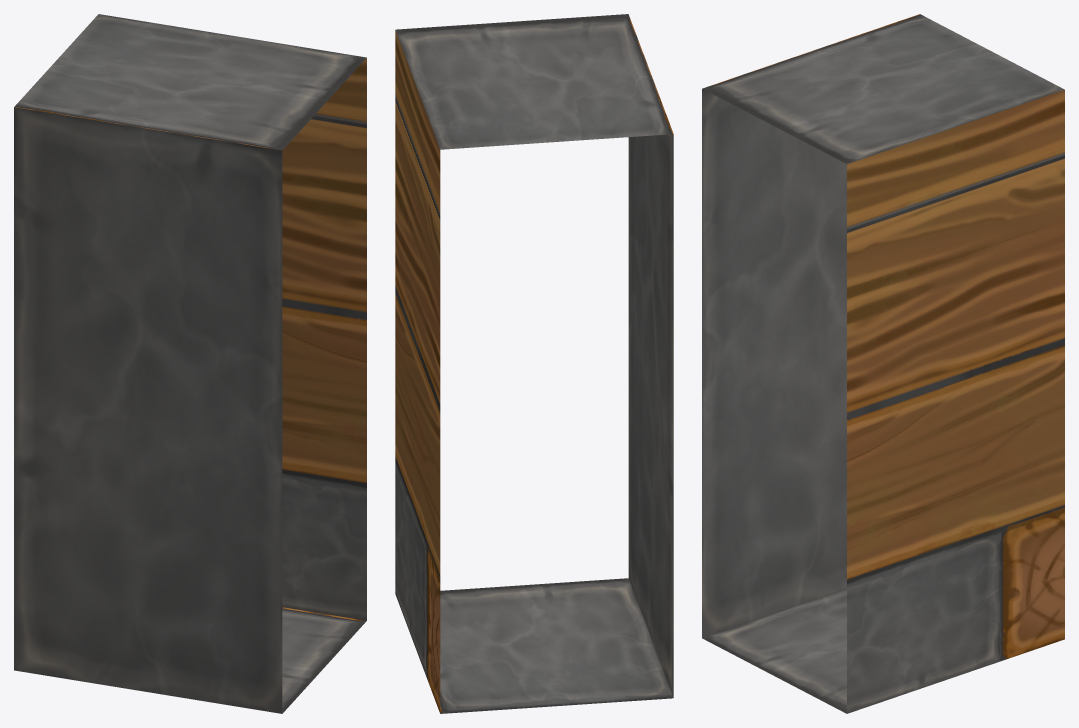
3 renders of one model, left to right at view 1: azimuth 30°, elevation 25°; view 2: azimuth 150°, elevation 25°; view 3: azimuth 270°, elevation 25°, orthographic. The views are drawn at different scales.
Visible parts, largest first — view 1: Cube.585; view 2: Cube.585; view 3: Cube.585.
Boxes of the visible parts, box(x1,y1,x2,y2) form: Cube.585: box(14, 14, 366, 713); Cube.585: box(395, 14, 673, 713); Cube.585: box(702, 14, 1064, 713).
Bounding box in the file's own units: 18.62 × 31.76 × 19.
1 material, 1 textured.
